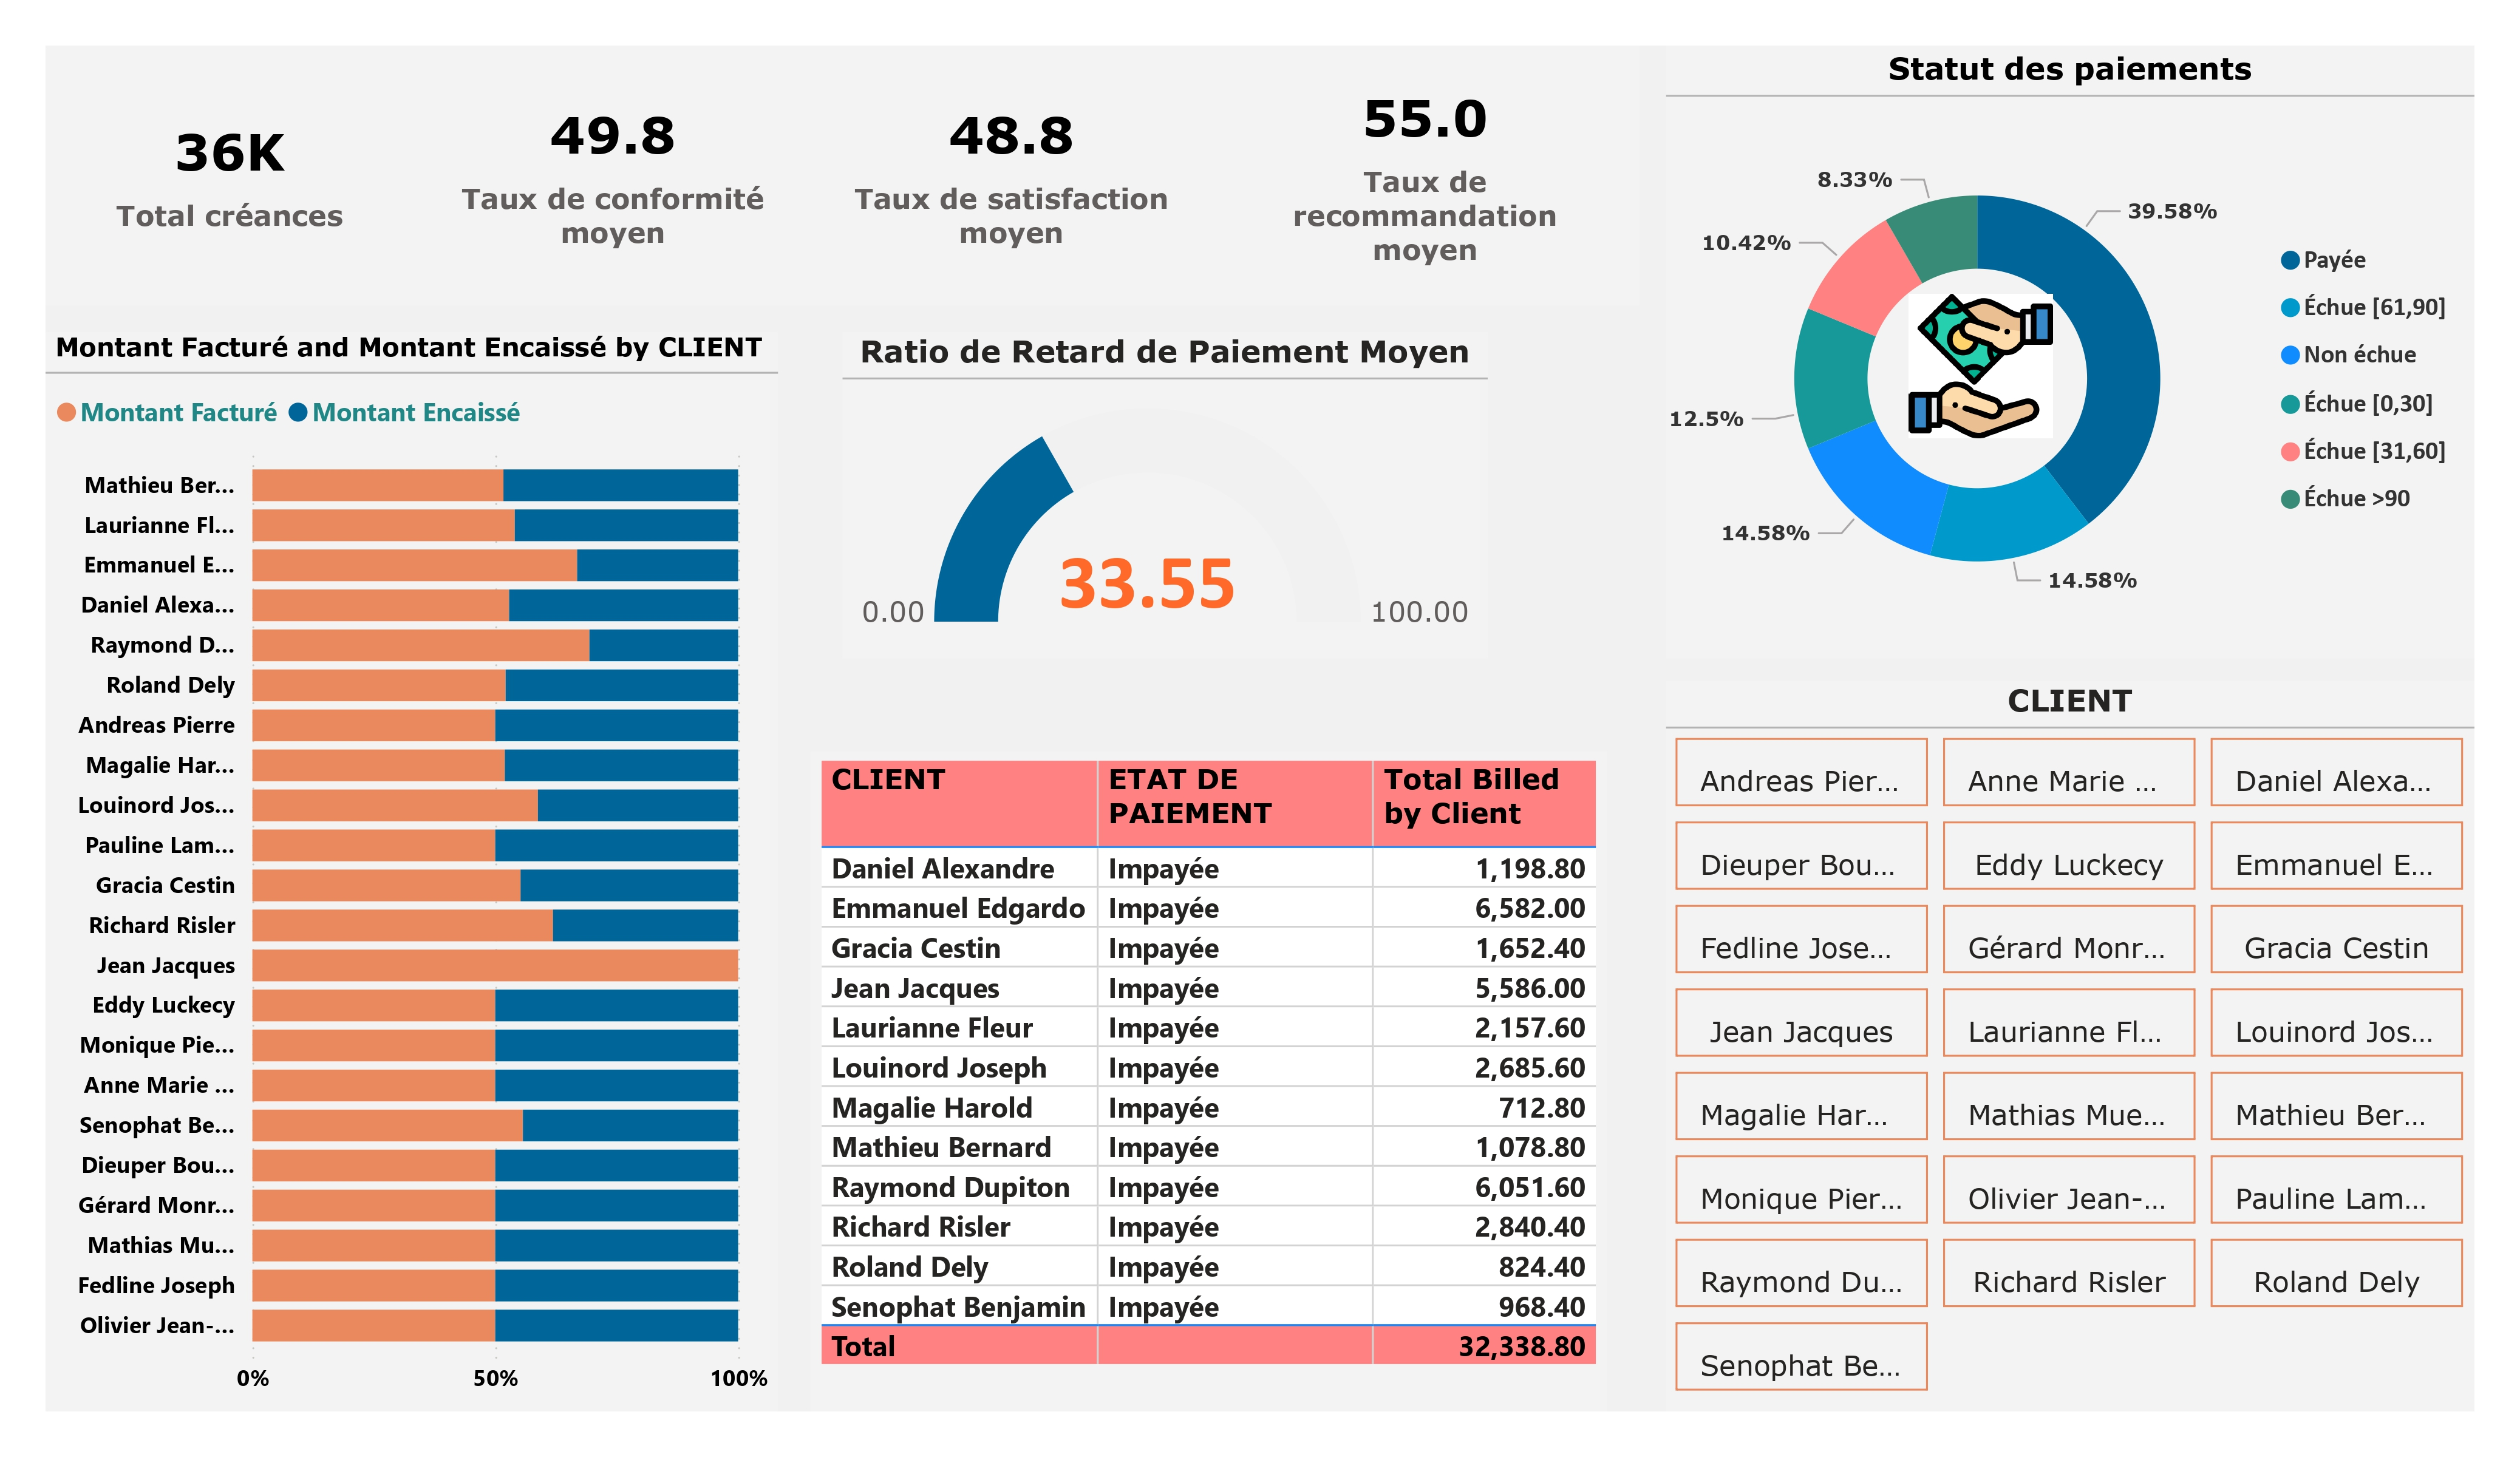

The page's visual inventory and layout, read from the dashboard file:
{"tool":"powerbi","page":{"name":"Clients","canvas":[1280,720],"ordinal":3},"visuals":[{"type":"cardVisual","fields":{"Data":["Creances clients.Total créances"]},"box":[0,0,194,136.7],"z":0},{"type":"cardVisual","fields":{"Data":["Creances clients.Taux de conformité moyen"]},"box":[194,0,210.1,136.7],"z":1000},{"type":"cardVisual","fields":{"Data":["Creances clients.Taux de satisfaction moyen"]},"box":[404.1,0,210.1,136.7],"z":2000},{"type":"cardVisual","fields":{"Data":["Creances clients.Taux de recommandation moyen"]},"box":[614.2,0,226.3,136.7],"z":3000},{"type":"donutChart","title":"Statut des paiements","fields":{"Category":["Creances clients.Statut"],"Y":["CountNonNull(Creances clients.Statut)"]},"box":[853.7,0,426.1,323.3],"z":4000},{"type":"gauge","fields":{"Y":["Creances clients.Ratio de Retard de Paiement Moyen"]},"box":[420.2,151.3,339.4,171.9],"z":5000},{"type":"hundredPercentStackedBarChart","fields":{"Category":["Factures USA.CLIENT"],"Y":["Factures USA.Total Billed by Client","Factures USA.Total Collected by Client"]},"box":[0,151.3,386.4,568.7],"z":6000},{"type":"tableEx","fields":{"Values":["Factures USA.CLIENT","Factures USA.ETAT DE PAIEMENT","Factures USA.Total Billed by Client"]},"box":[402.6,371.8,420.2,348.2],"z":7000},{"type":"advancedSlicerVisual","fields":{"Values":["Factures USA.CLIENT"]},"box":[853.7,335,426.1,385],"z":8000},{"type":"image","box":[972.7,126.4,94,85.2],"z":9000}]}

Visuals, with their boxes on the page's 1280x720 design canvas (x1, y1, x2, y2). These are canvas units, not pixel positions in the 2520x1457 screenshot, which may show the page scaled, cropped or inside an application window:
cardVisual - Creances clients.Total créances: left=0, top=0, right=194, bottom=137
cardVisual - Creances clients.Taux de conformité moyen: left=194, top=0, right=404, bottom=137
cardVisual - Creances clients.Taux de satisfaction moyen: left=404, top=0, right=614, bottom=137
cardVisual - Creances clients.Taux de recommandation moyen: left=614, top=0, right=840, bottom=137
"Statut des paiements" donutChart: left=854, top=0, right=1280, bottom=323
gauge - Creances clients.Ratio de Retard de Paiement Moyen: left=420, top=151, right=760, bottom=323
hundredPercentStackedBarChart - Factures USA.CLIENT x Factures USA.Total Billed by Client: left=0, top=151, right=386, bottom=720
tableEx - Factures USA.CLIENT x Factures USA.ETAT DE PAIEMENT: left=403, top=372, right=823, bottom=720
advancedSlicerVisual - Factures USA.CLIENT: left=854, top=335, right=1280, bottom=720
image: left=973, top=126, right=1067, bottom=212
